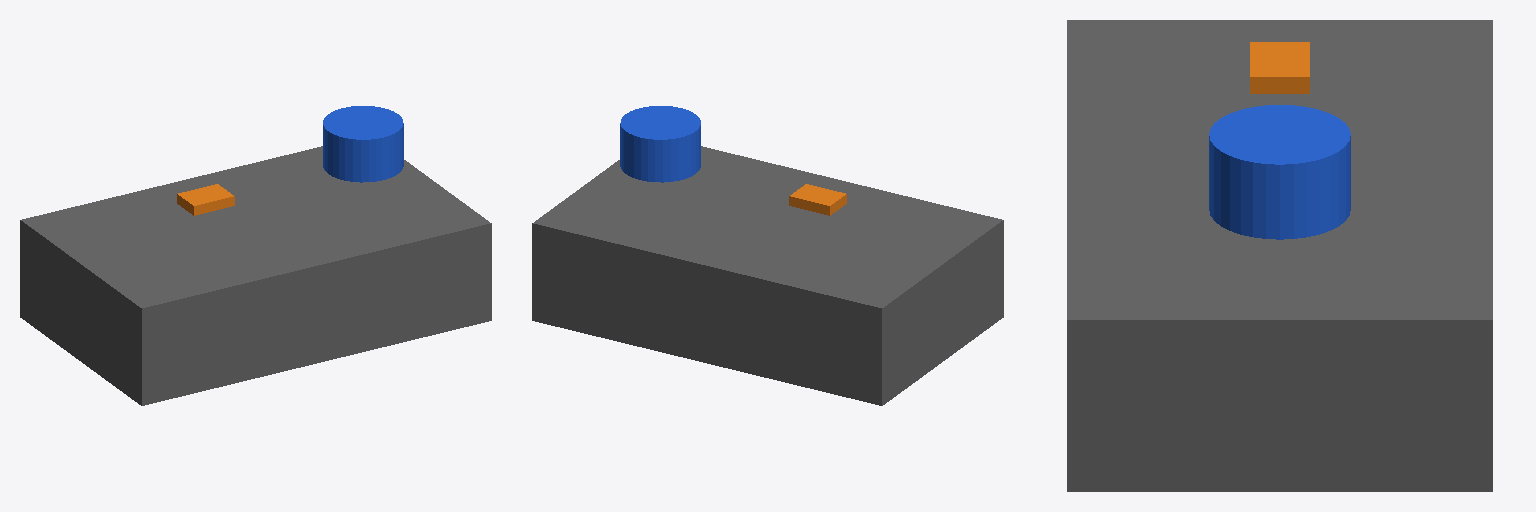
The robot description file, URDF, robot "robotcar_sensor_tf_skeleton":
<?xml version="1.0"?>
<robot name="robotcar_sensor_tf_skeleton">
  <material name="gray"><color rgba="0.45 0.45 0.45 0.75"/></material>
  <material name="blue"><color rgba="0.2 0.45 0.9 1"/></material>
  <material name="green"><color rgba="0.25 0.75 0.3 1"/></material>
  <material name="orange"><color rgba="0.95 0.55 0.15 1"/></material>
  <material name="red"><color rgba="0.9 0.2 0.2 1"/></material>

  <link name="base_footprint"/>
  <link name="base_link">
    <visual><origin xyz="0 0 0.04"/><geometry><box size="0.30 0.18 0.08"/></geometry><material name="gray"/></visual>
  </link>
  <joint name="base_footprint_joint" type="fixed"><parent link="base_footprint"/><child link="base_link"/><origin xyz="0 0 0.037230282"/></joint>

  <link name="laser_link">
    <visual><geometry><cylinder radius="0.03" length="0.035"/></geometry><material name="blue"/></visual>
  </link>
  <joint name="laser_joint" type="fixed"><parent link="base_link"/><child link="laser_link"/><origin xyz="0.09199999 0 0.122011877"/></joint>

  <link name="camera_link">
    <visual><geometry><box size="0.025 0.085 0.025"/></geometry><material name="green"/></visual>
  </link>
  <joint name="camera_joint" type="fixed"><parent link="base_link"/><child link="camera_link"/><origin xyz="0.13499999 0 0.060287877"/></joint>

  <link name="camera_optical_frame">
    <visual><geometry><sphere radius="0.008"/></geometry><material name="red"/></visual>
  </link>
  <joint name="camera_optical_joint" type="fixed"><parent link="camera_link"/><child link="camera_optical_frame"/><origin xyz="0 0 0" rpy="-1.5707963267948966 0 -1.5707963267948966"/></joint>

  <link name="imu_link">
    <visual><geometry><box size="0.035 0.025 0.008"/></geometry><material name="orange"/></visual>
  </link>
  <joint name="imu_joint" type="fixed"><parent link="base_link"/><child link="imu_link"/><origin xyz="-0.043 0 0.107799877"/></joint>
</robot>

--- Facts derived from the render (not from the file) ---
The picture shows the robot from 3 angles, left to right: view 1: azimuth 30°, elevation 25°; view 2: azimuth 150°, elevation 25°; view 3: azimuth 270°, elevation 25°; orthographic projection.
Model robotcar_sensor_tf_skeleton with 6 links and 5 joints (5 fixed), rooted at base_footprint, posed all joints at 0.
Visible links, largest first — view 1: base_link, laser_link, imu_link; view 2: base_link, laser_link, imu_link; view 3: base_link, laser_link, imu_link.
Link boxes in pixels (x1,y1,x2,y2): base_link: [20, 146, 491, 405]; laser_link: [323, 106, 403, 182]; imu_link: [177, 184, 234, 215]; base_link: [532, 146, 1003, 405]; laser_link: [620, 106, 700, 182]; imu_link: [789, 184, 846, 215]; base_link: [1067, 20, 1492, 491]; laser_link: [1209, 105, 1350, 239]; imu_link: [1250, 42, 1309, 93].
Size in the robot's own frame: 0.3 by 0.18 by 0.1395 metres.
Geometry: primitives only (box / cylinder / sphere), no mesh files.
